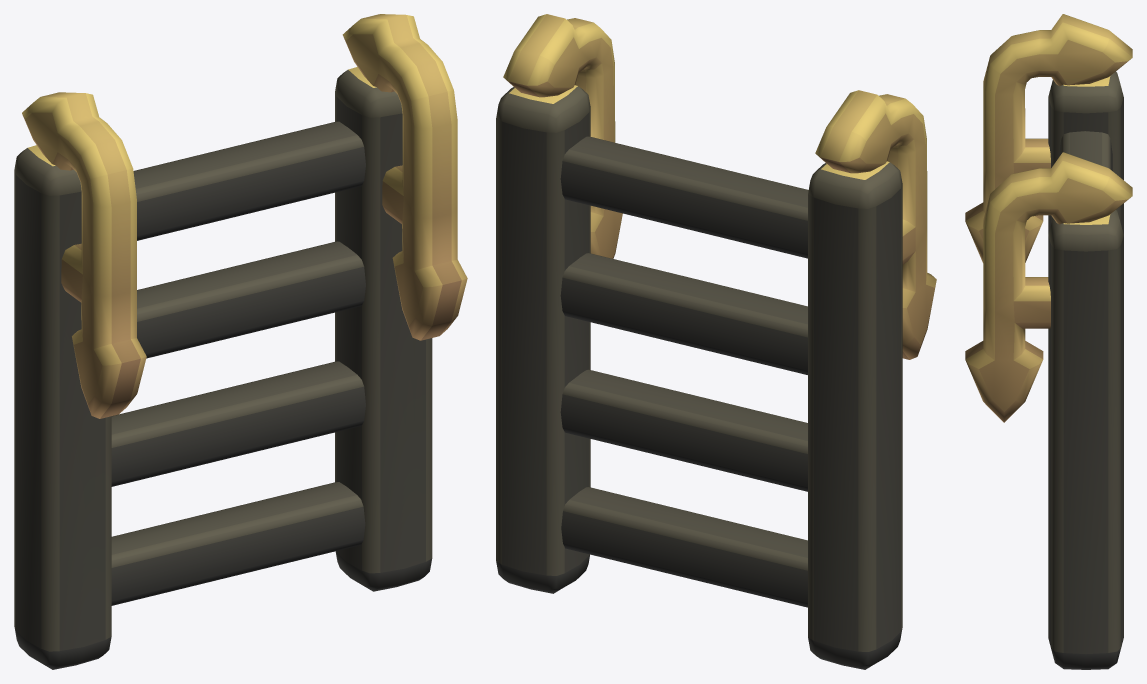
Rendered from ColdWood_Ladder_Top.fbx.
3 renders of one model, left to right at view 1: azimuth 30°, elevation 25°; view 2: azimuth 150°, elevation 25°; view 3: azimuth 270°, elevation 25°, orthographic. The views are drawn at different scales.
Visible parts, largest first — view 1: ColdWood_Ladder_Top_LOD0; view 2: ColdWood_Ladder_Top_LOD0; view 3: ColdWood_Ladder_Top_LOD0.
Boxes of the visible parts, left/top/right/bottom form: ColdWood_Ladder_Top_LOD0: left=14, top=14, right=467, bottom=669; ColdWood_Ladder_Top_LOD0: left=496, top=14, right=936, bottom=669; ColdWood_Ladder_Top_LOD0: left=965, top=14, right=1132, bottom=669.
Size of what is drawn, in the model's own units: 0.8613 by 1.19 by 0.3586.
